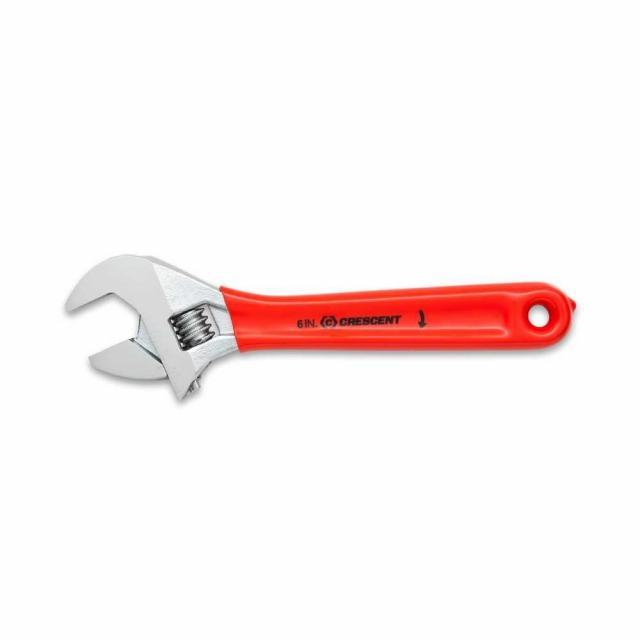wrench: (62, 250, 580, 408)
